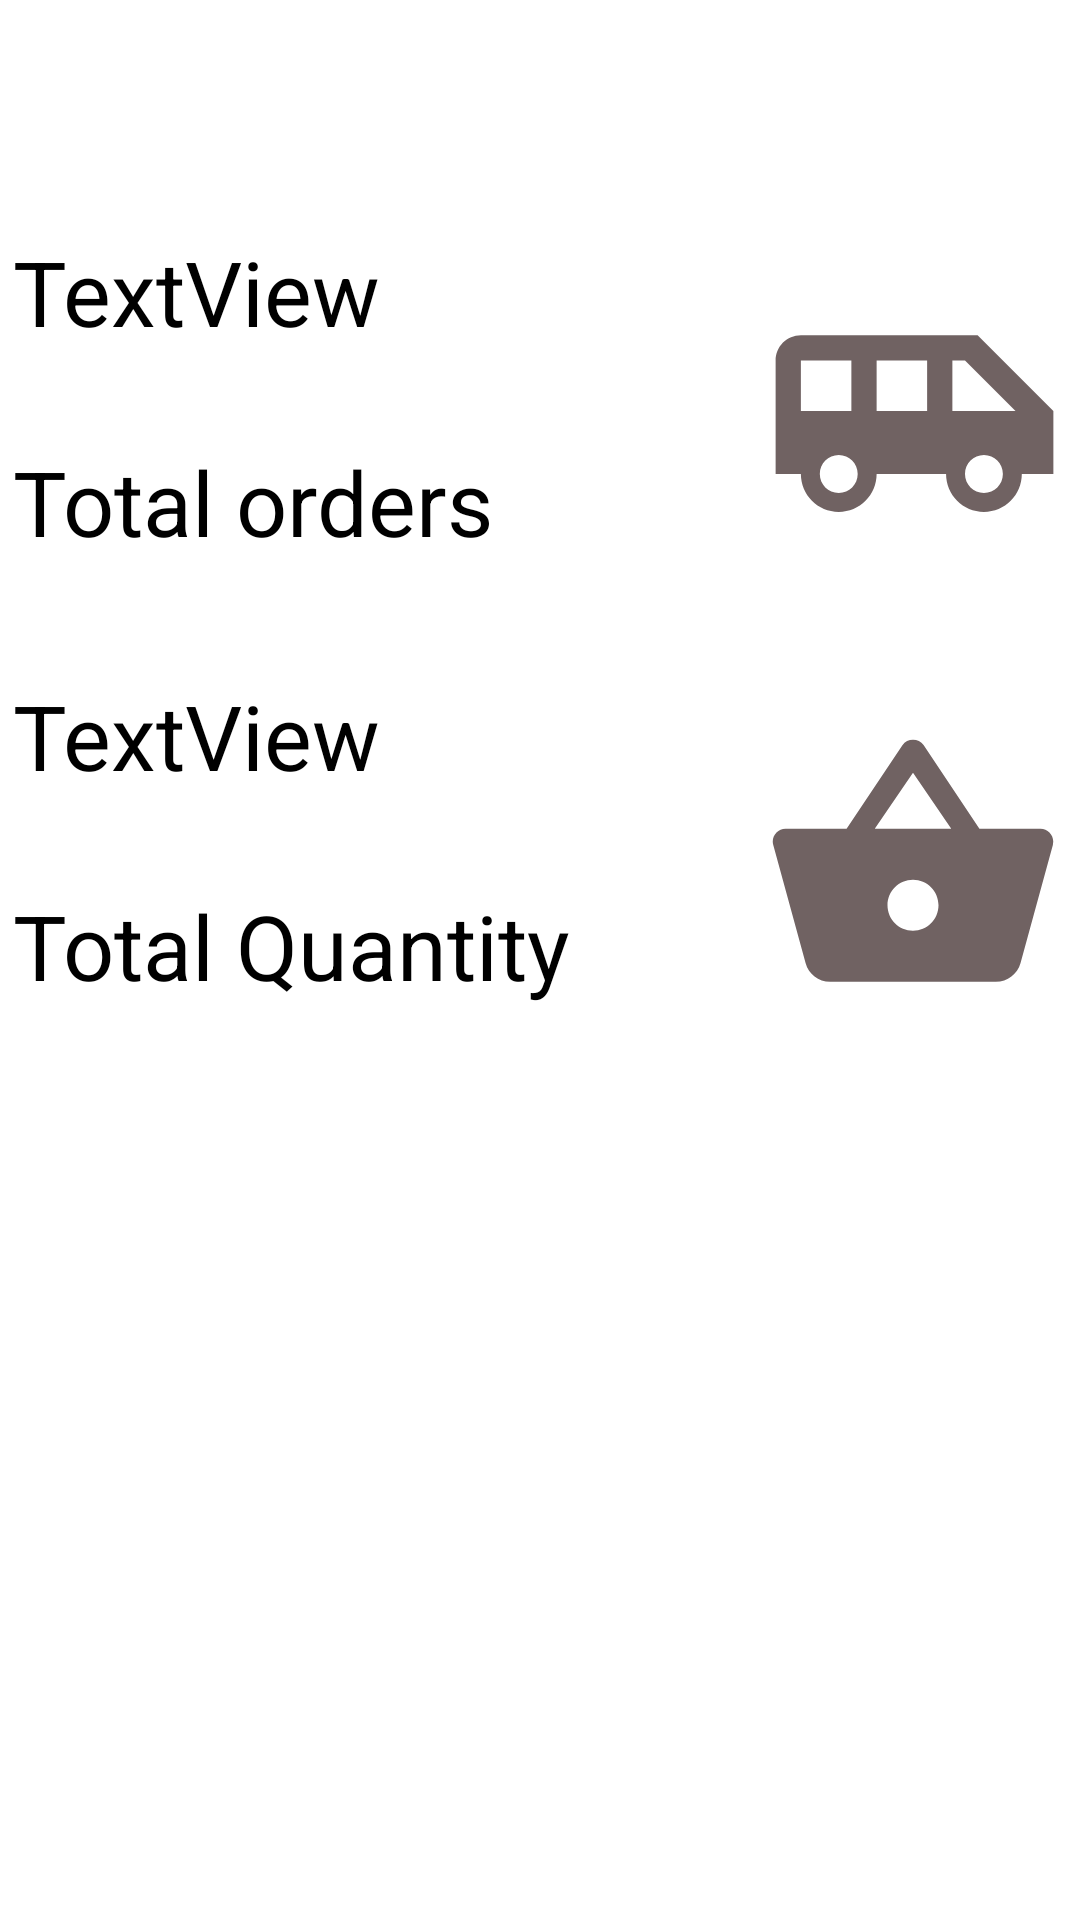

Icons on this 1080×1920 Android screen, each with the point to tap as (x,y):
airport shuttle: (914,423)
shopping basket: (913,860)
